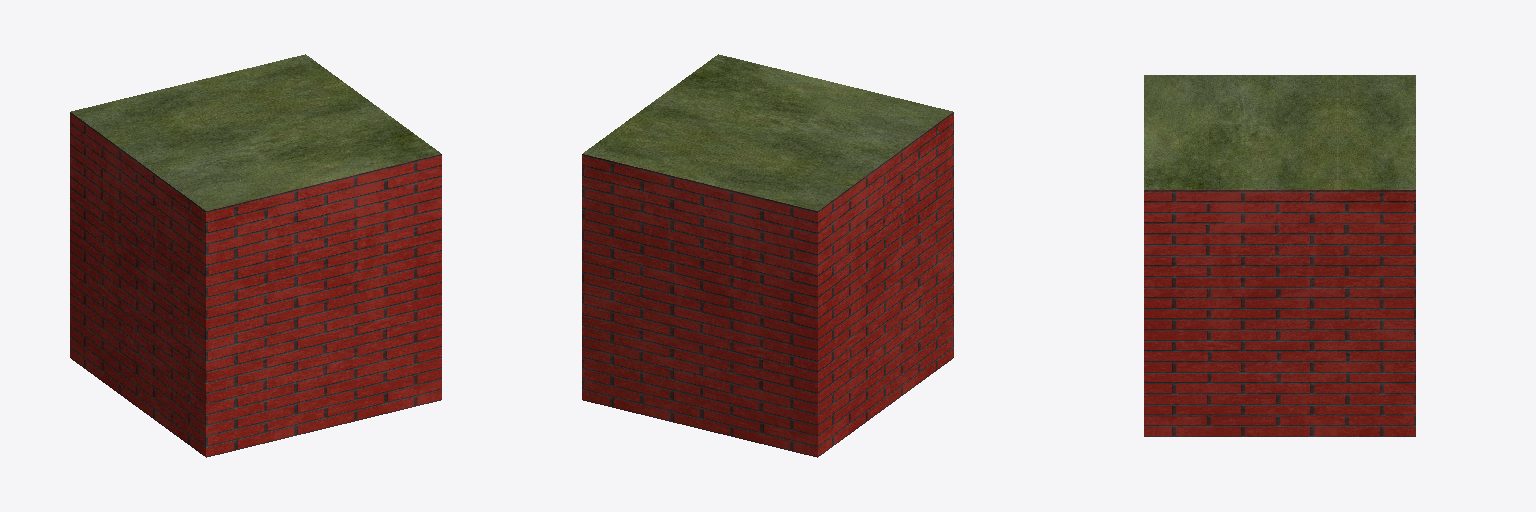
The picture shows the model from 3 angles: view 1: azimuth 30°, elevation 25°; view 2: azimuth 150°, elevation 25°; view 3: azimuth 270°, elevation 25°; orthographic projection.
Parts seen in each view (by area): view 1: Cube; view 2: Cube; view 3: Cube.
Boxes of the visible parts, <box> form: Cube: <box>70,54,441,457</box>; Cube: <box>582,54,953,457</box>; Cube: <box>1144,75,1415,436</box>.
Size of the model in its own units: 1 by 1 by 1.
Materials: 3 (2 with a texture image).